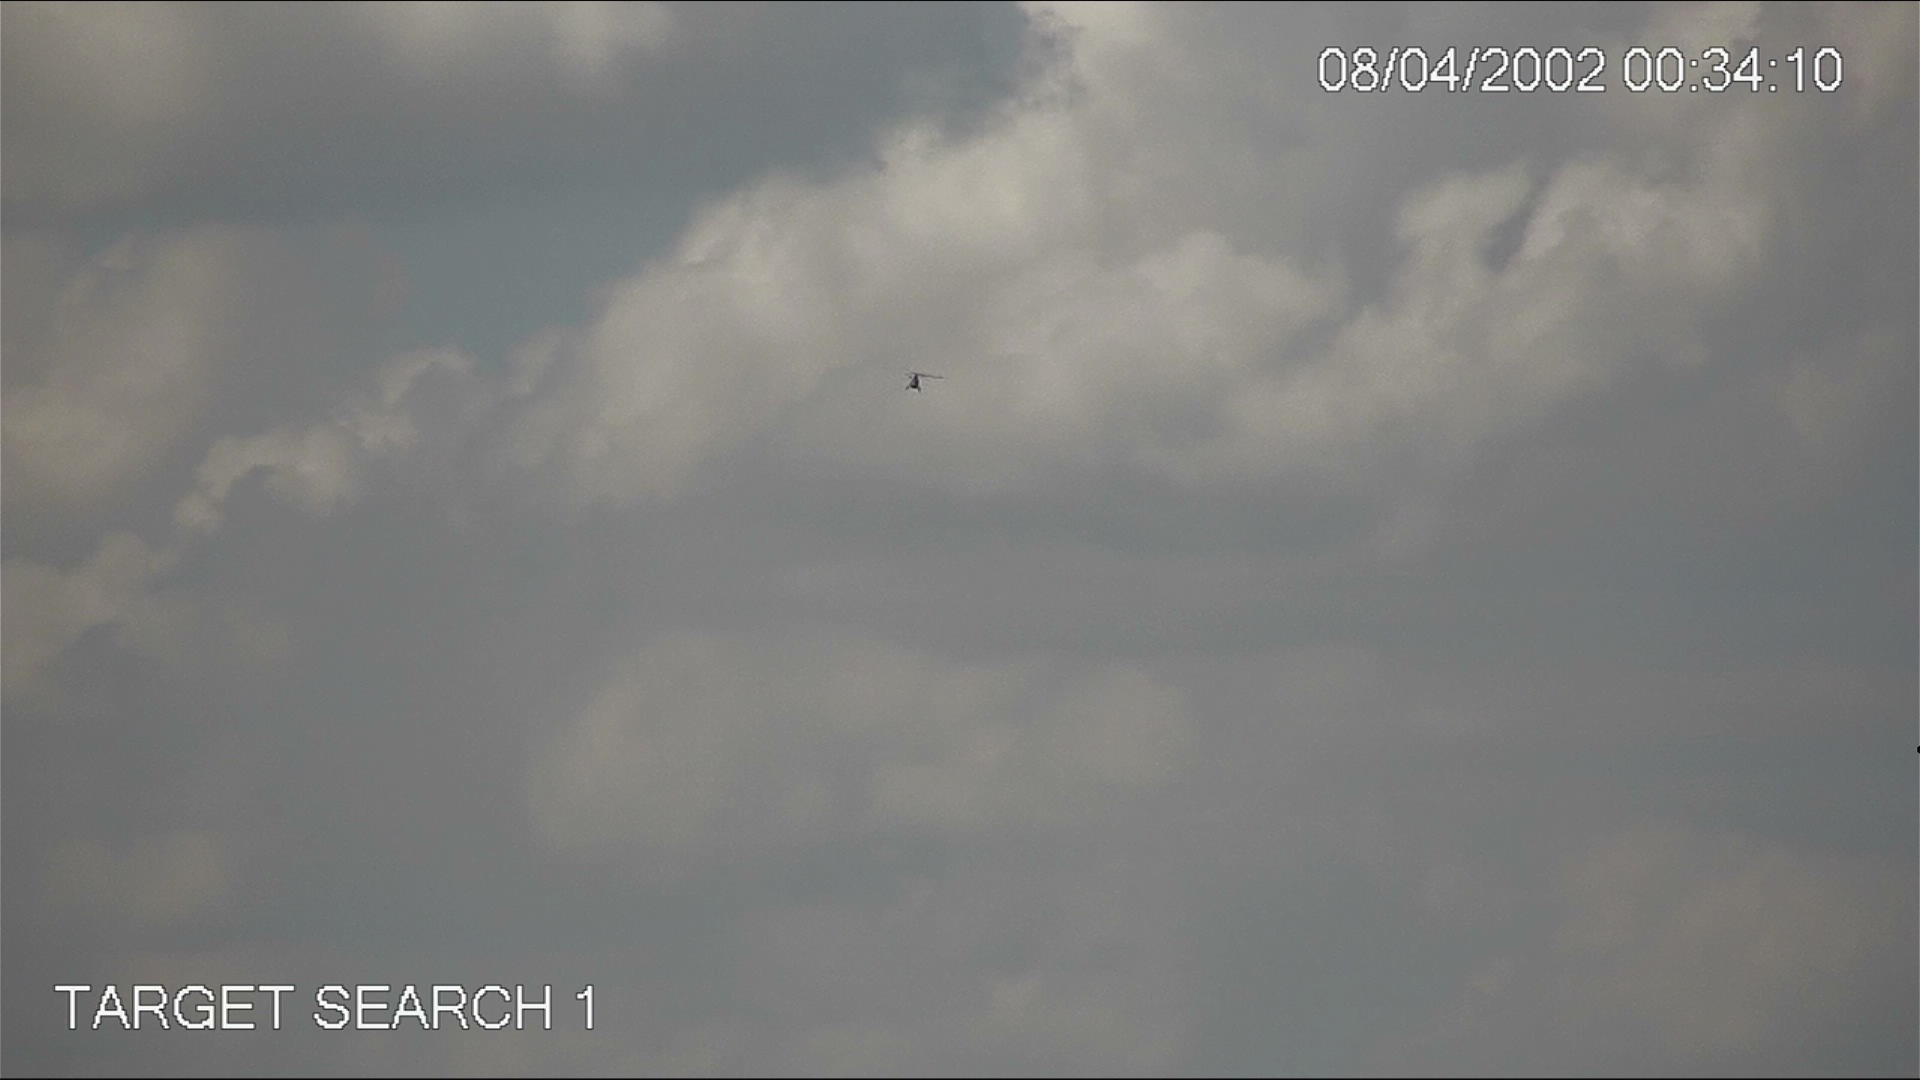SU_30: (898, 368, 944, 400)
